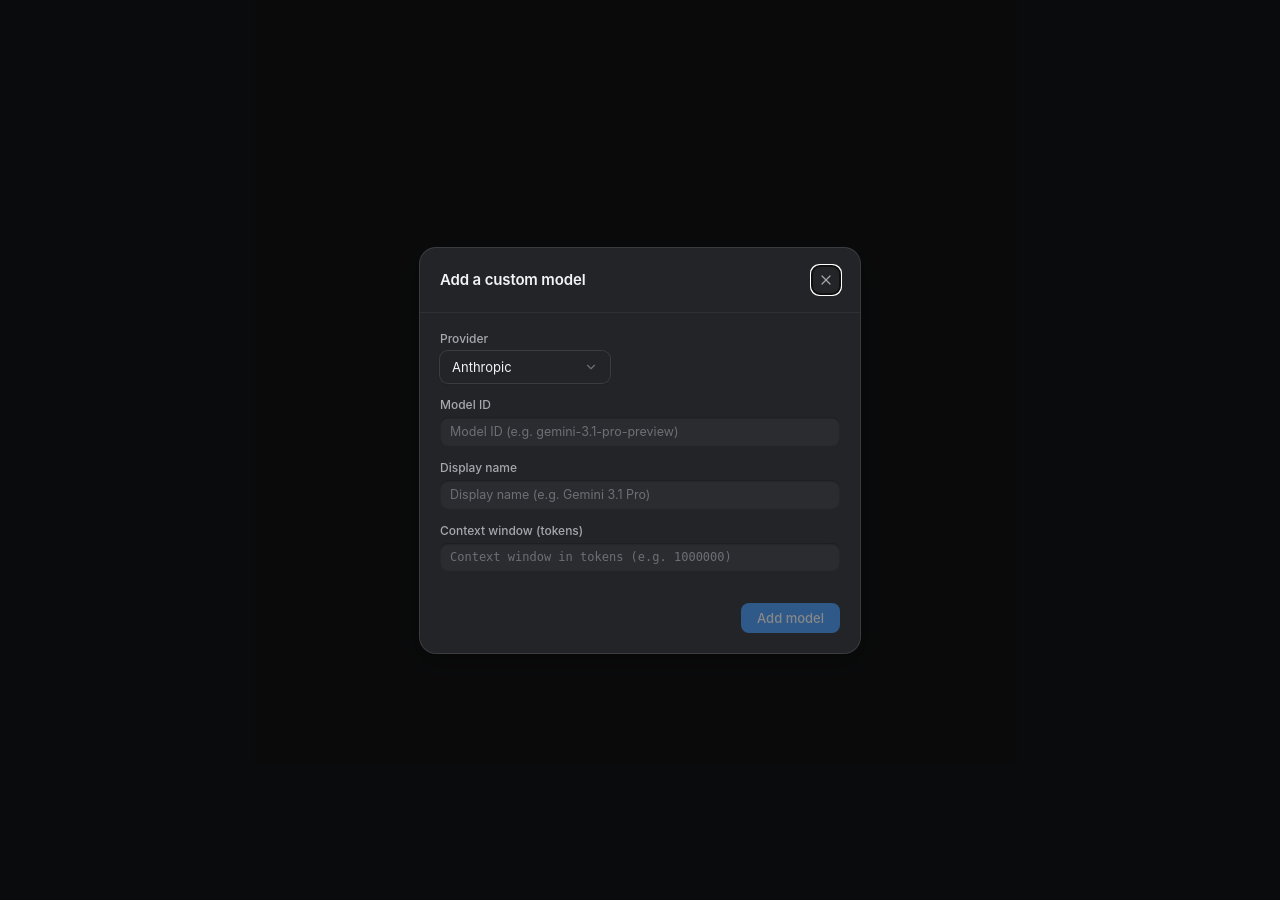
Scenario: AddCustomModelModal › disables Add until id, label, and a positive context window are filled
Check: the button "Add model" is disabled, box x1=741 y1=602 x2=840 y2=632
In the field with placeholder "Model ID (e.g. gemini-3.1-pro-preview)": (640, 431) x1=440 y1=416 x2=840 y2=446, type "my-model"
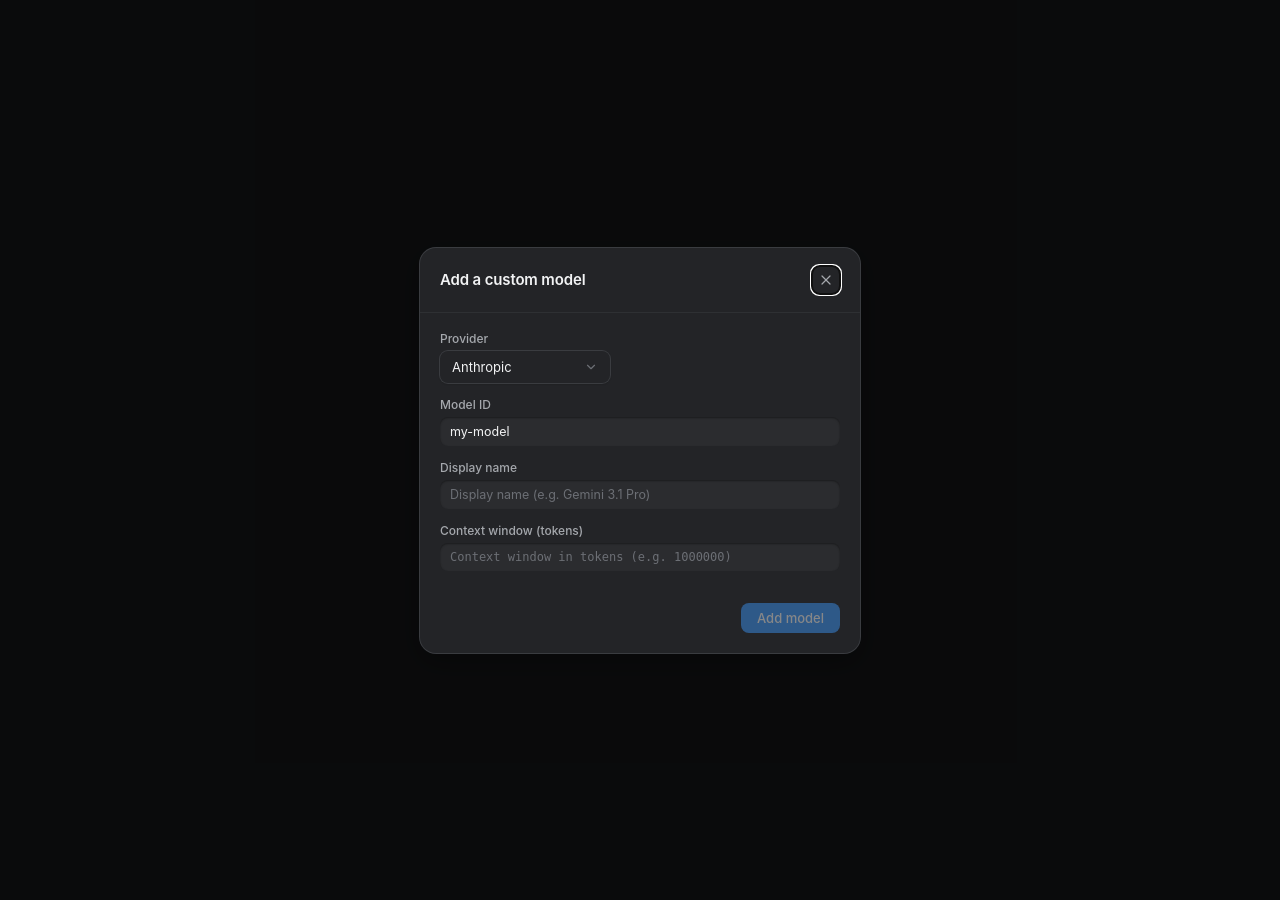
In the field with placeholder "Display name (e.g. Gemini 3.1 Pro)": (640, 494) x1=440 y1=480 x2=840 y2=508, type "My Model"
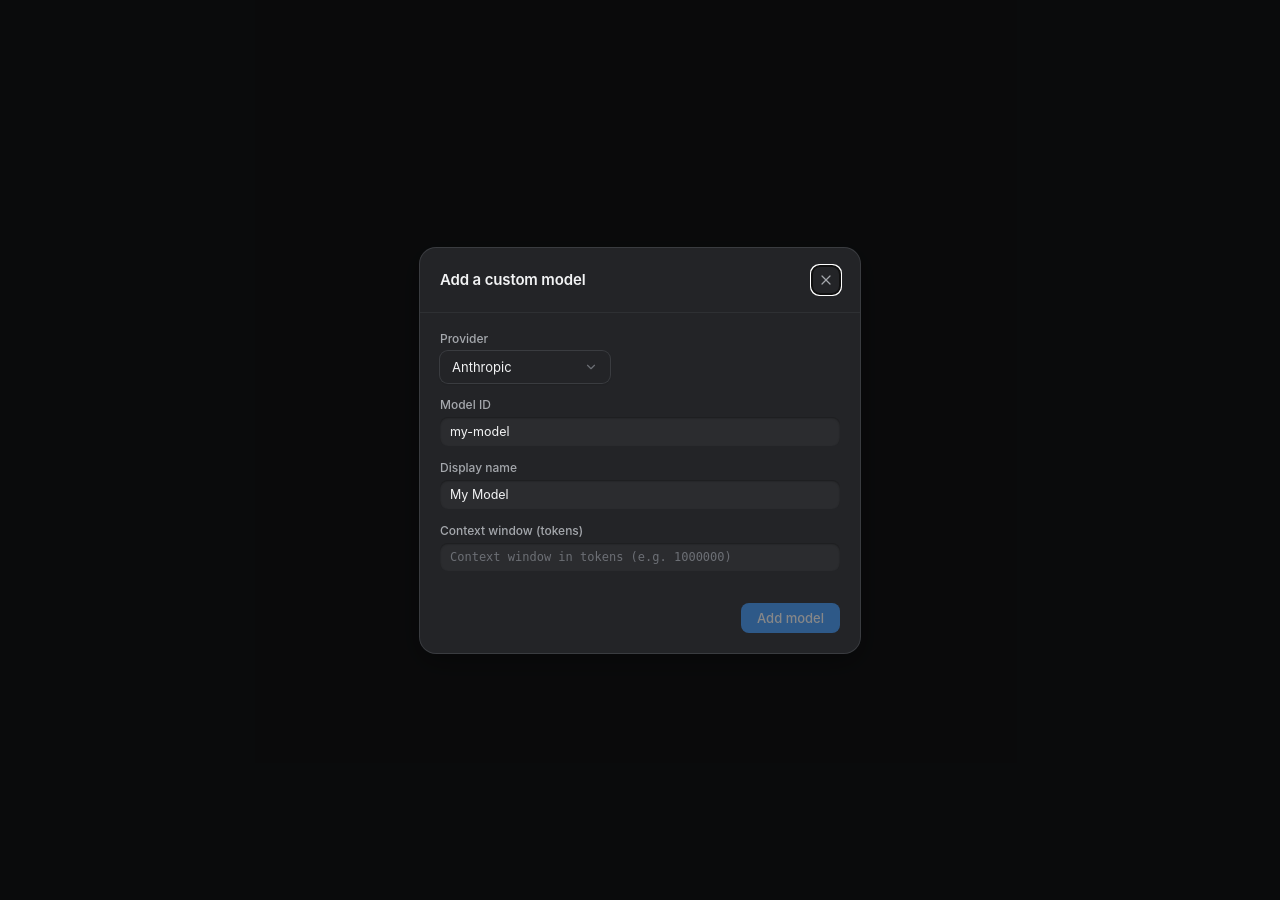
In the number field with placeholder "Context window in tokens (e.g. 1000000)": (640, 556) x1=440 y1=542 x2=840 y2=570, type "128000"
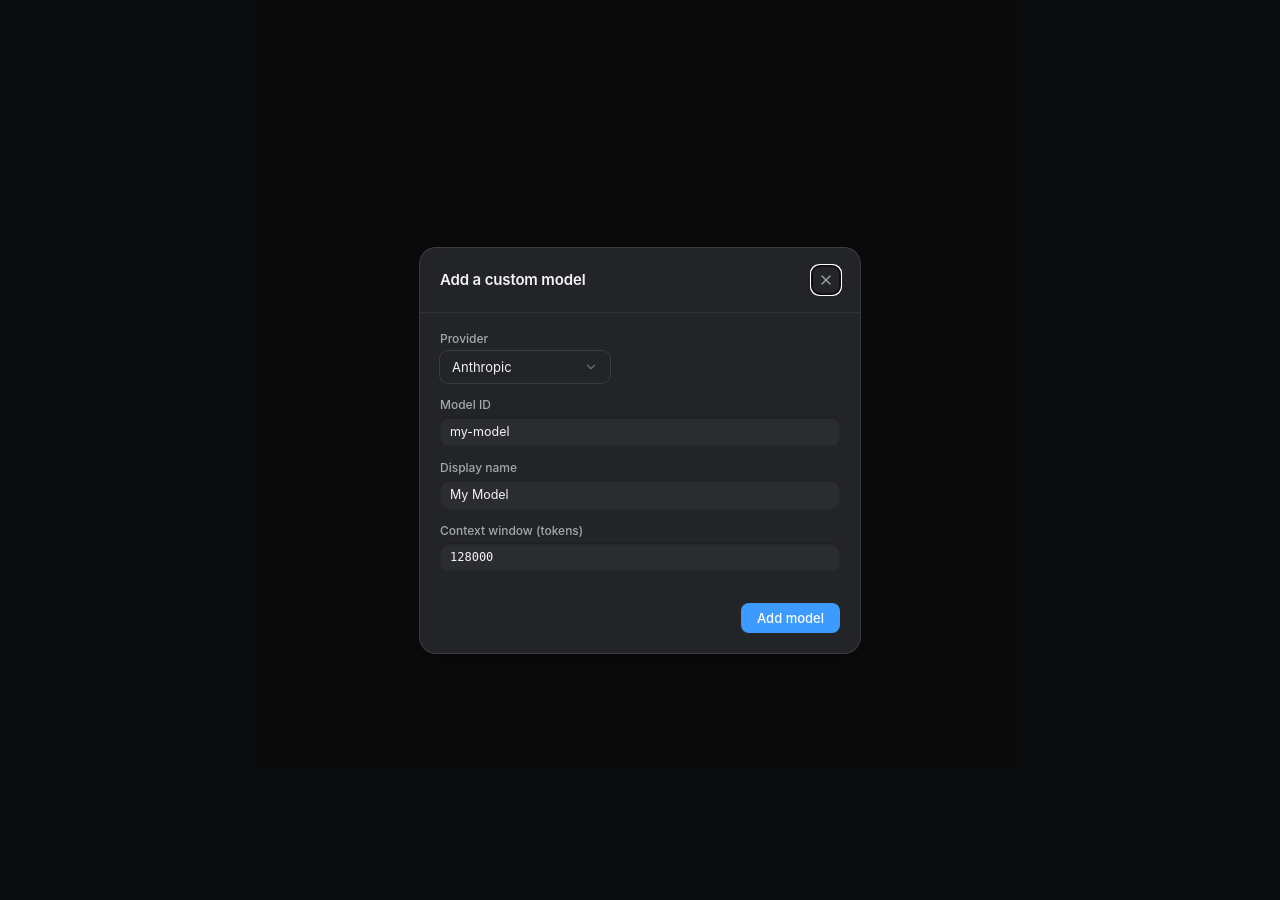
Check: the button "Add model" is enabled, box x1=741 y1=602 x2=840 y2=632
